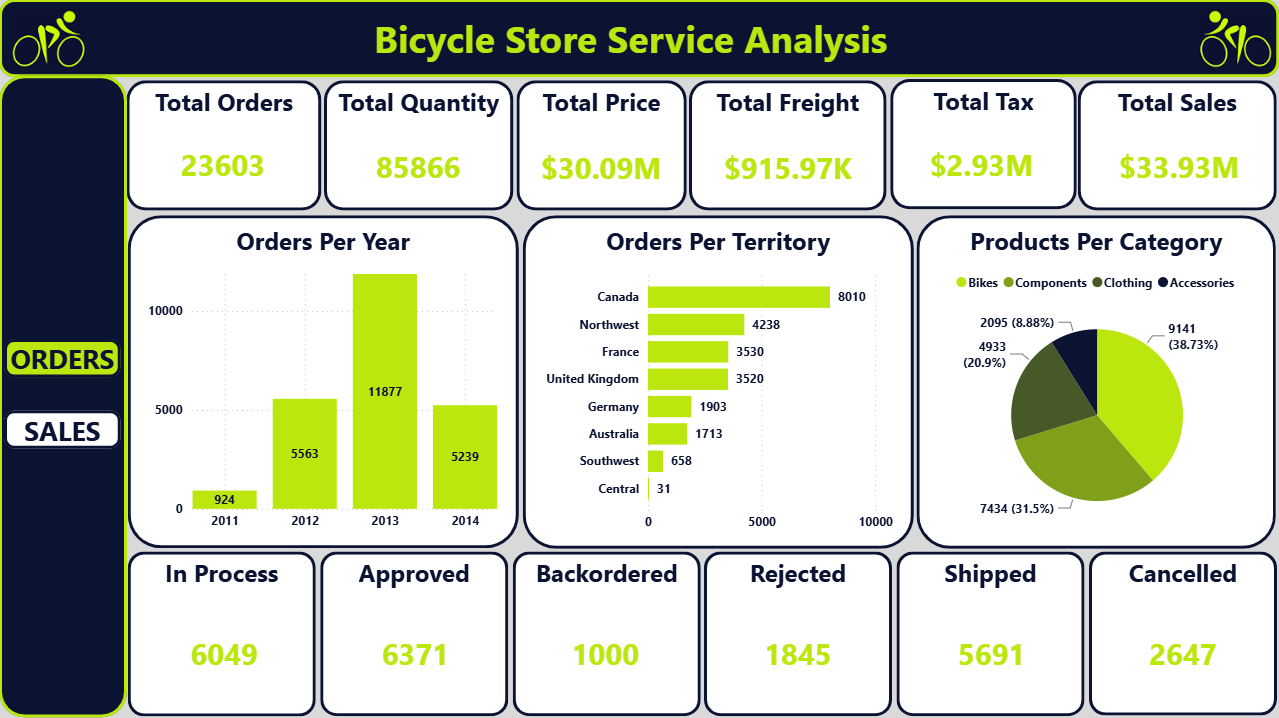

What the dashboard file says about the page in this screenshot:
{"tool":"powerbi","page":{"name":"Orders","canvas":[1280,720],"ordinal":0},"visuals":[{"type":"group","id":"g1","title":"Group 2","box":[0,0,1280.3,78.2],"z":0},{"type":"shape","box":[324.8,81,189.4,130.4],"z":0,"group":"g6"},{"type":"group","id":"g2","title":"Group 3","box":[890.8,80.5,186.6,130.4],"z":1000},{"type":"cardVisual","fields":{"Data":["DAX Measures.TotalOrders"]},"box":[353.6,133.1,131.7,63.1],"z":1000,"group":"g6"},{"type":"group","id":"g3","title":"Group 4","box":[689.9,81,197.6,130.4],"z":2000},{"type":"shape","box":[127.9,81,194.9,130.4],"z":3000,"group":"g5"},{"type":"group","id":"g4","title":"Group 5","box":[518,81,170.2,130.4],"z":3000},{"type":"cardVisual","fields":{"Data":["DAX Measures.TotalProducts"]},"box":[155.3,131.8,138.6,63.1],"z":3500,"group":"g5"},{"type":"cardVisual","fields":{"Data":["DAX Measures.TotalProducts"]},"box":[155.1,621.6,138.6,63.1],"z":4000},{"type":"shape","box":[0,0,1280.3,78.2],"z":5000,"group":"g7"},{"type":"shape","box":[0,76.8,128,642.2],"z":5000,"group":"g9"},{"type":"shape","box":[890.8,80.5,186.6,130.4],"z":5000,"group":"g2"},{"type":"group","id":"g5","title":"Group 6","box":[127.9,81,194.9,130.4],"z":5000},{"type":"shape","box":[518,81,170.2,130.4],"z":5000,"group":"g4"},{"type":"shape","box":[689.9,81,197.6,130.4],"z":5000,"group":"g3"},{"type":"shape","box":[1078.6,81,199,130.4],"z":5000,"group":"g8"},{"type":"cardVisual","fields":{"Data":["DAX Measures.TotalTax"]},"box":[896.9,132.6,170.2,63.1],"z":5500,"group":"g2"},{"type":"cardVisual","fields":{"Data":["DAX Measures.OverallAmt"]},"box":[1098.4,133.2,163.3,63.1],"z":5500,"group":"g8"},{"type":"cardVisual","fields":{"Data":["DAX Measures.TotalSales"]},"box":[519.4,134.5,167.4,63.1],"z":5500,"group":"g4"},{"type":"cardVisual","fields":{"Data":["DAX Measures.TotalFreight"]},"box":[707.7,134.5,163.3,63.1],"z":5500,"group":"g3"},{"type":"group","id":"g6","title":"Group 7","box":[324.8,81,189.4,130.4],"z":6000},{"type":"shape","box":[128.7,216.6,391.1,333],"z":6000,"group":"g10"},{"type":"group","id":"g7","title":"Group 1","box":[0,0,1280.3,78.2],"z":6001,"group":"g1"},{"type":"shape","box":[523.3,216.8,391.1,333.4],"z":7000},{"type":"textbox","box":[370.5,8.2,540.7,63.1],"z":8000,"group":"g7"},{"type":"group","id":"g8","title":"Group 3","box":[1078.6,81,199,130.4],"z":8000},{"type":"group","id":"g9","title":"Group 1","box":[0,76.8,128,642.2],"z":9000},{"type":"image","box":[11,9.6,76.8,59],"z":10000},{"type":"image","box":[1199.3,9.6,76,59],"z":11000},{"type":"actionButton","box":[5.5,340.3,116.6,38.4],"z":12000},{"type":"actionButton","box":[5.5,411.7,116.6,38.4],"z":13000},{"type":"columnChart","fields":{"Category":["OrderDateDIM.OrderYear"],"Y":["DAX Measures.TotalProducts"]},"box":[143.8,259.1,359.5,281.3],"z":13500,"group":"g10"},{"type":"group","id":"g10","title":"Group 8","box":[128.7,216.6,391.1,333],"z":14000},{"type":"barChart","fields":{"Category":["TerritoryDIM.Territory"],"Y":["DAX Measures.TotalProducts"]},"box":[540.7,263.5,358.1,277.2],"z":15000},{"type":"shape","box":[918,216.8,359.5,333.4],"z":16000},{"type":"shape","box":[129,553,188,165],"z":17000},{"type":"shape","box":[321.1,553,188,164.7],"z":18000},{"type":"shape","box":[513.2,553,188,164.7],"z":19000},{"type":"shape","box":[705.3,553,188,164.7],"z":20000},{"type":"shape","box":[897.4,553,188,164.7],"z":21000},{"type":"shape","box":[1089.5,553,188,164],"z":22000},{"type":"cardVisual","fields":{"Data":["DAX Measures.TotalInProcess"]},"box":[156.4,621.6,138.6,63.1],"z":23000},{"type":"cardVisual","fields":{"Data":["DAX Measures.TotalApproved"]},"box":[347.2,621.6,138.6,63.1],"z":24000},{"type":"cardVisual","fields":{"Data":["DAX Measures.TotalBackordered"]},"box":[537.9,621.6,138.6,63.1],"z":25000},{"type":"cardVisual","fields":{"Data":["DAX Measures.TotalRejected"]},"box":[730,621.6,138.6,63.1],"z":26000},{"type":"cardVisual","fields":{"Data":["DAX Measures.TotalShipped"]},"box":[923.5,621.6,138.6,63.1],"z":27000},{"type":"cardVisual","fields":{"Data":["DAX Measures.TotalCancelled"]},"box":[1115.6,621.6,138.6,63.1],"z":28000},{"type":"pieChart","fields":{"Y":["DAX Measures.TotalOrders"],"Category":["ProductDIM.ProductCategory"]},"box":[934.5,263.5,326.6,277.2],"z":29000}]}

Visuals, with their boxes in screenshot pixels (x1, y1, x2, y2), scaled from the page's 1280x720 canvas onto the 1279x718 screenshot:
"Group 2" group: x1=0 y1=0 x2=1278 y2=78
shape: x1=325 y1=81 x2=514 y2=211
"Group 3" group: x1=890 y1=80 x2=1077 y2=210
cardVisual - DAX Measures.TotalOrders: x1=353 y1=133 x2=485 y2=196
"Group 4" group: x1=689 y1=81 x2=887 y2=211
shape: x1=128 y1=81 x2=323 y2=211
"Group 5" group: x1=518 y1=81 x2=688 y2=211
cardVisual - DAX Measures.TotalProducts: x1=155 y1=131 x2=294 y2=194
cardVisual - DAX Measures.TotalProducts: x1=155 y1=620 x2=293 y2=683
shape: x1=0 y1=0 x2=1278 y2=78
shape: x1=0 y1=77 x2=128 y2=717
shape: x1=890 y1=80 x2=1077 y2=210
"Group 6" group: x1=128 y1=81 x2=323 y2=211
shape: x1=518 y1=81 x2=688 y2=211
shape: x1=689 y1=81 x2=887 y2=211
shape: x1=1078 y1=81 x2=1277 y2=211
cardVisual - DAX Measures.TotalTax: x1=896 y1=132 x2=1066 y2=195
cardVisual - DAX Measures.OverallAmt: x1=1098 y1=133 x2=1261 y2=196
cardVisual - DAX Measures.TotalSales: x1=519 y1=134 x2=686 y2=197
cardVisual - DAX Measures.TotalFreight: x1=707 y1=134 x2=870 y2=197
"Group 7" group: x1=325 y1=81 x2=514 y2=211
shape: x1=129 y1=216 x2=519 y2=548
"Group 1" group: x1=0 y1=0 x2=1278 y2=78
shape: x1=523 y1=216 x2=914 y2=549
textbox: x1=370 y1=8 x2=910 y2=71
"Group 3" group: x1=1078 y1=81 x2=1277 y2=211
"Group 1" group: x1=0 y1=77 x2=128 y2=717
image: x1=11 y1=10 x2=88 y2=68
image: x1=1198 y1=10 x2=1274 y2=68
actionButton: x1=5 y1=339 x2=122 y2=378
actionButton: x1=5 y1=411 x2=122 y2=449
columnChart - OrderDateDIM.OrderYear x DAX Measures.TotalProducts: x1=144 y1=258 x2=503 y2=539
"Group 8" group: x1=129 y1=216 x2=519 y2=548
barChart - TerritoryDIM.Territory x DAX Measures.TotalProducts: x1=540 y1=263 x2=898 y2=539
shape: x1=917 y1=216 x2=1277 y2=549
shape: x1=129 y1=551 x2=317 y2=716
shape: x1=321 y1=551 x2=509 y2=716
shape: x1=513 y1=551 x2=701 y2=716
shape: x1=705 y1=551 x2=893 y2=716
shape: x1=897 y1=551 x2=1085 y2=716
shape: x1=1089 y1=551 x2=1277 y2=715
cardVisual - DAX Measures.TotalInProcess: x1=156 y1=620 x2=295 y2=683
cardVisual - DAX Measures.TotalApproved: x1=347 y1=620 x2=485 y2=683
cardVisual - DAX Measures.TotalBackordered: x1=537 y1=620 x2=676 y2=683
cardVisual - DAX Measures.TotalRejected: x1=729 y1=620 x2=868 y2=683
cardVisual - DAX Measures.TotalShipped: x1=923 y1=620 x2=1061 y2=683
cardVisual - DAX Measures.TotalCancelled: x1=1115 y1=620 x2=1253 y2=683
pieChart - DAX Measures.TotalOrders x ProductDIM.ProductCategory: x1=934 y1=263 x2=1260 y2=539
